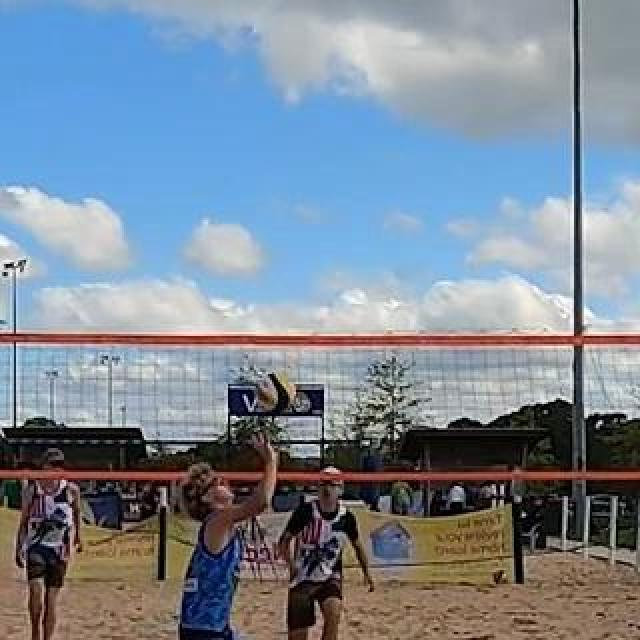volleyball: (259, 370, 297, 408), (493, 569, 509, 585)
